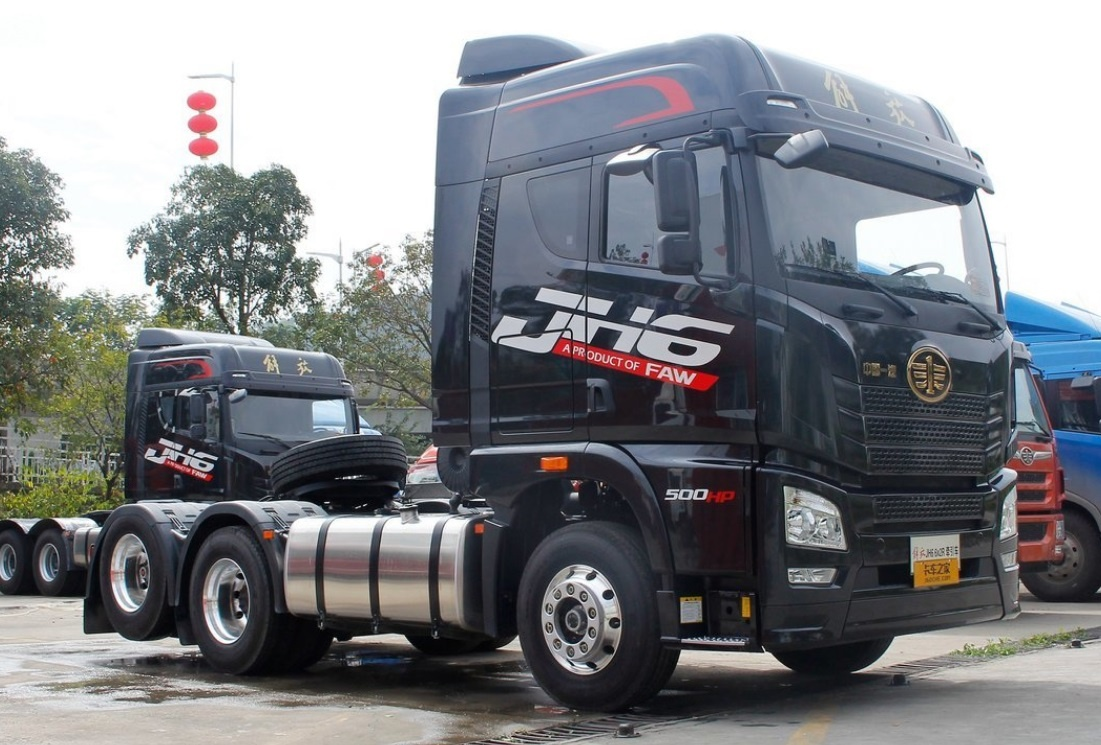heavy truck: (84, 21, 1061, 696)
